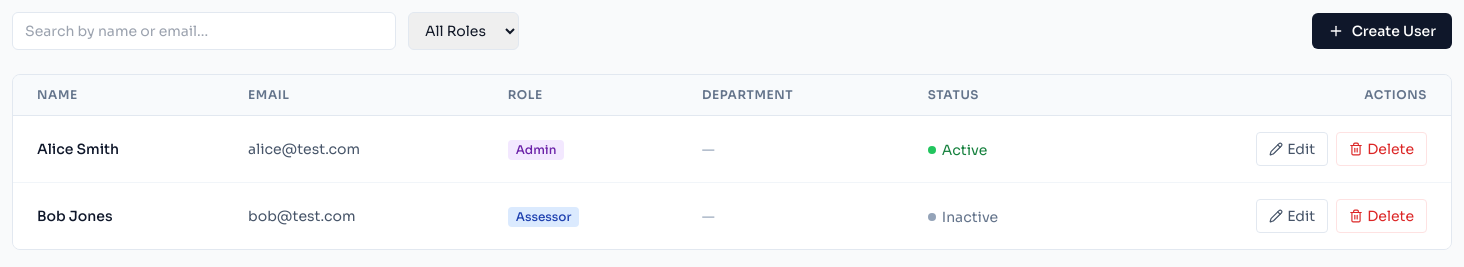
Test case: UsersList › filters users by search text (name)
Type "alice" into the field with placeholder "Search by name or email..." at point(204, 31), box [12,12,396,50]
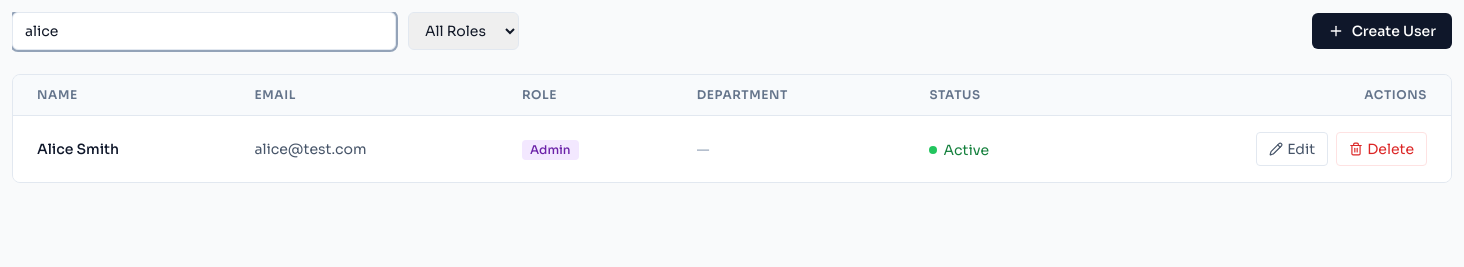
Expected: the text "Alice Smith" is shown, [13,116,230,182]
Result: the text "Bob Jones" is gone
